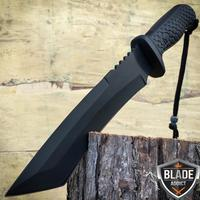knife: (4, 11, 187, 198)
